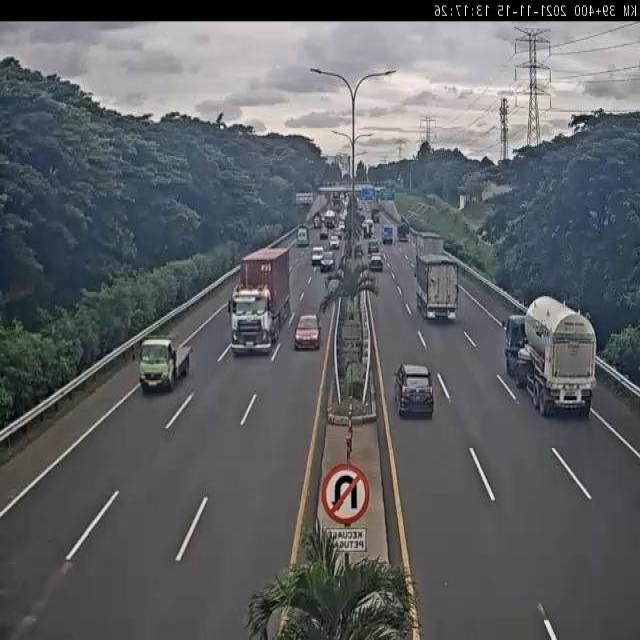Car: (391, 361, 435, 421), (294, 313, 322, 352), (367, 252, 385, 274), (319, 252, 336, 272)
Truck: (498, 292, 598, 417), (226, 246, 291, 358), (412, 252, 460, 325), (137, 331, 192, 394), (295, 222, 309, 249), (382, 224, 394, 247), (396, 223, 409, 243)
